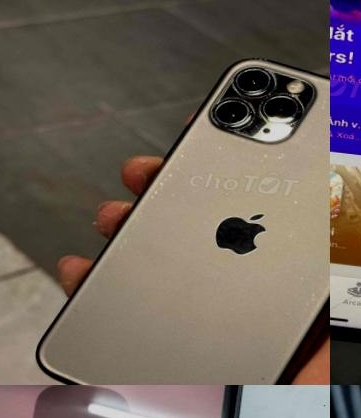physical_damage: (330, 215, 361, 341)
scratch: (187, 50, 330, 175), (97, 144, 190, 252), (280, 164, 330, 349), (237, 370, 266, 385)
